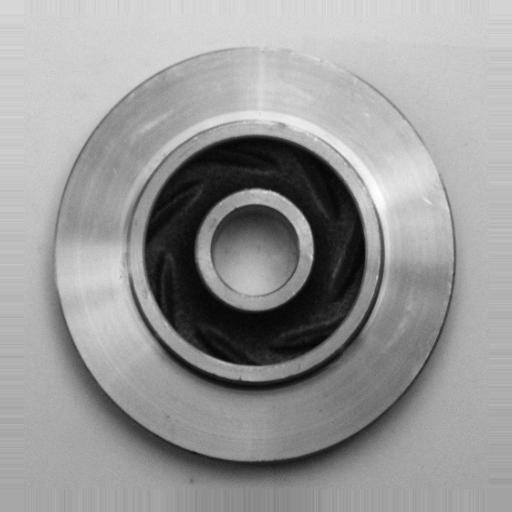unpolished_casting: (52, 40, 456, 468)
